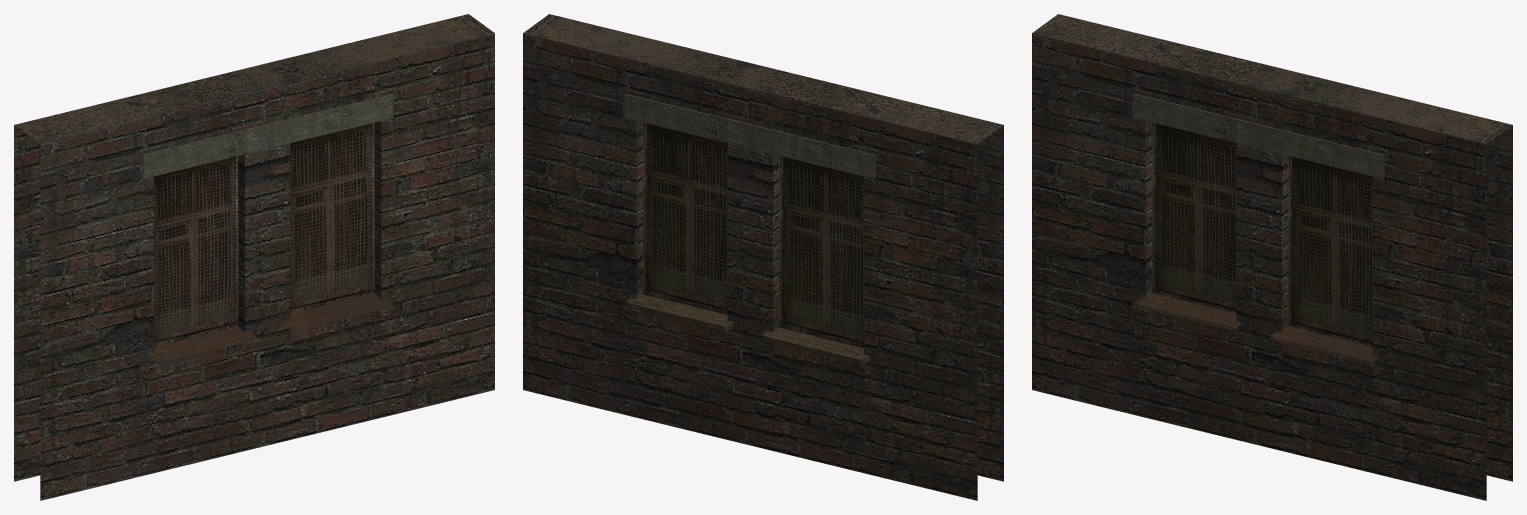
Rendered from windows_hs_1.glb.
3 renders of one model, left to right at view 1: azimuth 30°, elevation 25°; view 2: azimuth 150°, elevation 25°; view 3: azimuth 330°, elevation 25°, orthographic.
Visible parts, largest first — view 1: windows_hs_1; view 2: windows_hs_1; view 3: windows_hs_1.
Part boxes in pixels (x1,y1,x2,y2): windows_hs_1: (14,14,494,500); windows_hs_1: (523,14,1003,500); windows_hs_1: (1032,14,1512,500).
Size of the model in its own units: 4 by 3 by 0.595.
6 materials, 6 textured.
